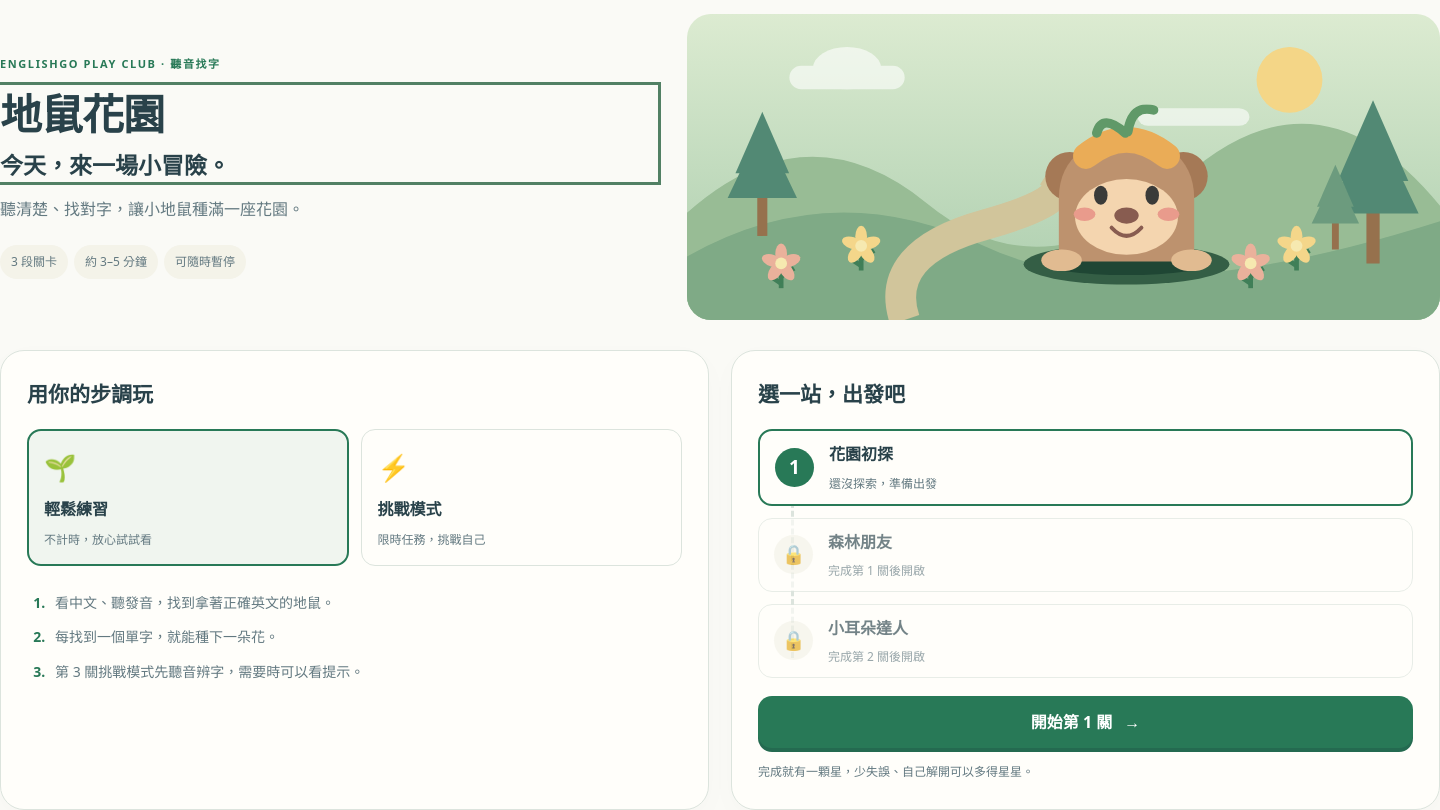
illustrated arcade play flow › automatically pauses when the browser tab is hidden
(page scrolled)
Click the button "開始第 1 關 →" at (1086, 722), box [758,696,1413,748]
(page scrolled)
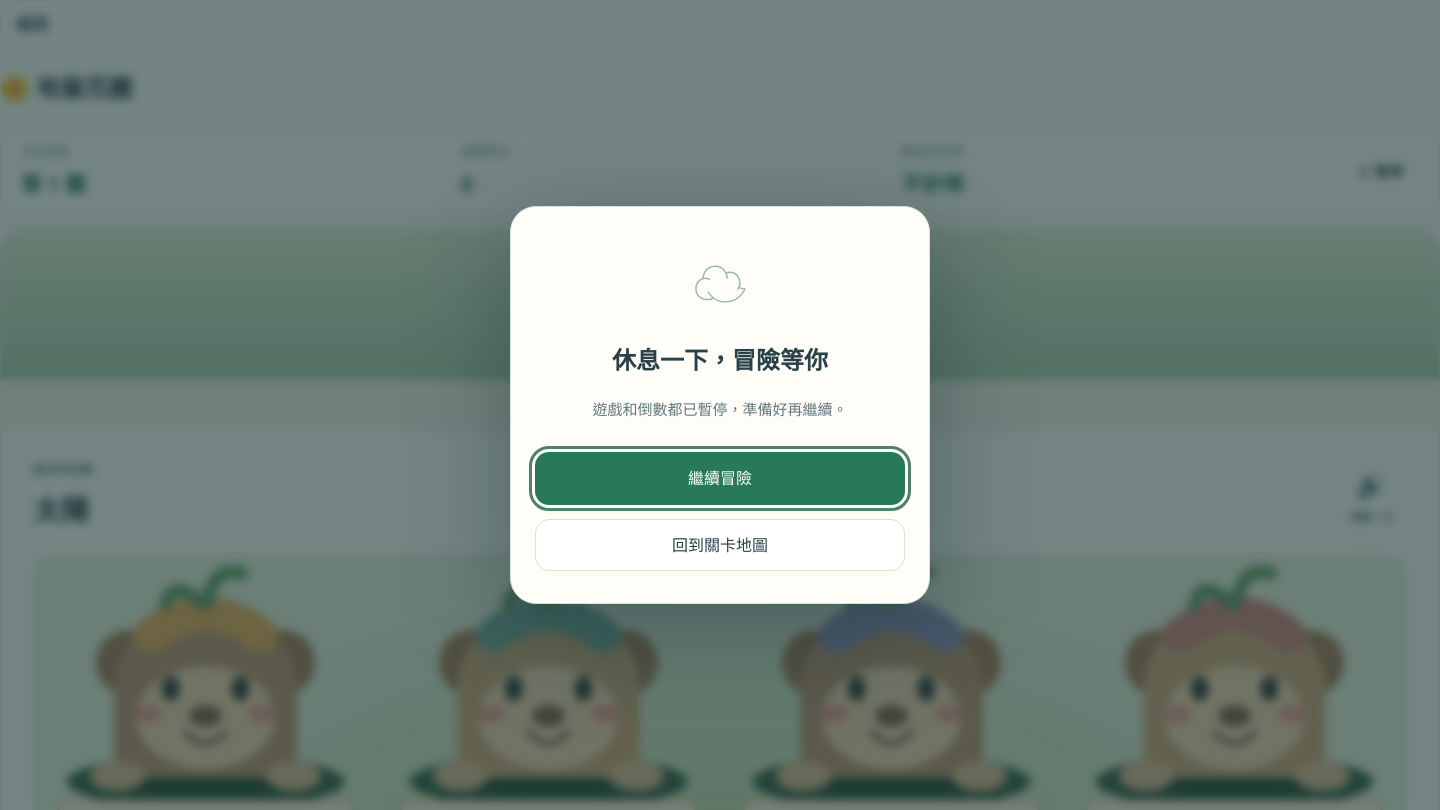
Now the dialog is shown, box [510,206,930,604]
